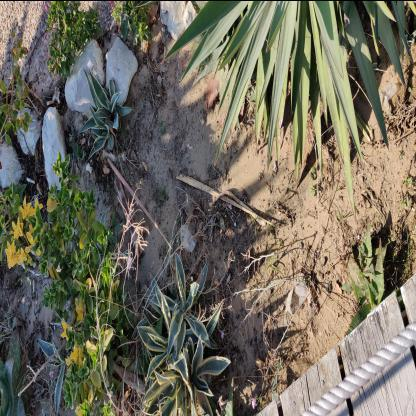plastik: (286, 282, 312, 314)
